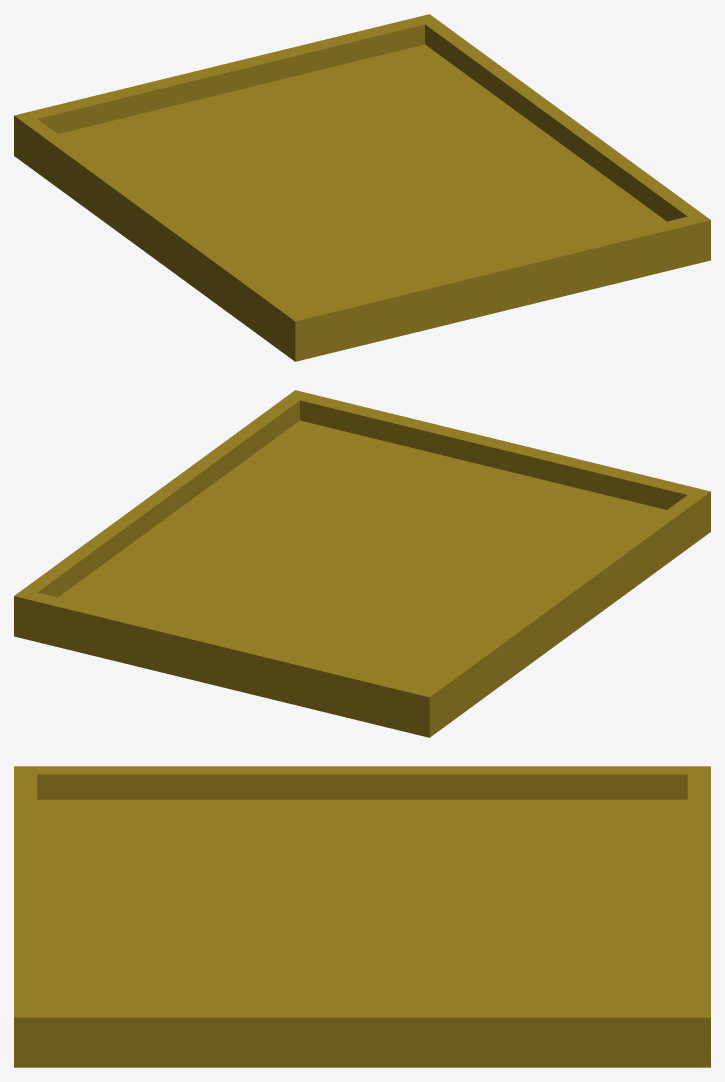
The model's file is charola_rompecabezas.glb.
3 renders of one model, top to bottom at view 1: azimuth 30°, elevation 25°; view 2: azimuth 150°, elevation 25°; view 3: azimuth 270°, elevation 25°, orthographic. The views are drawn at different scales.
Visible parts, largest first — view 1: charola; view 2: charola; view 3: charola.
Boxes of the visible parts, x1=… form: charola: x1=14, y1=14, x2=710, y2=361; charola: x1=14, y1=390, x2=710, y2=737; charola: x1=14, y1=766, x2=710, y2=1067.
Size of the model in its own units: 2.08 by 0.1936 by 2.44.
